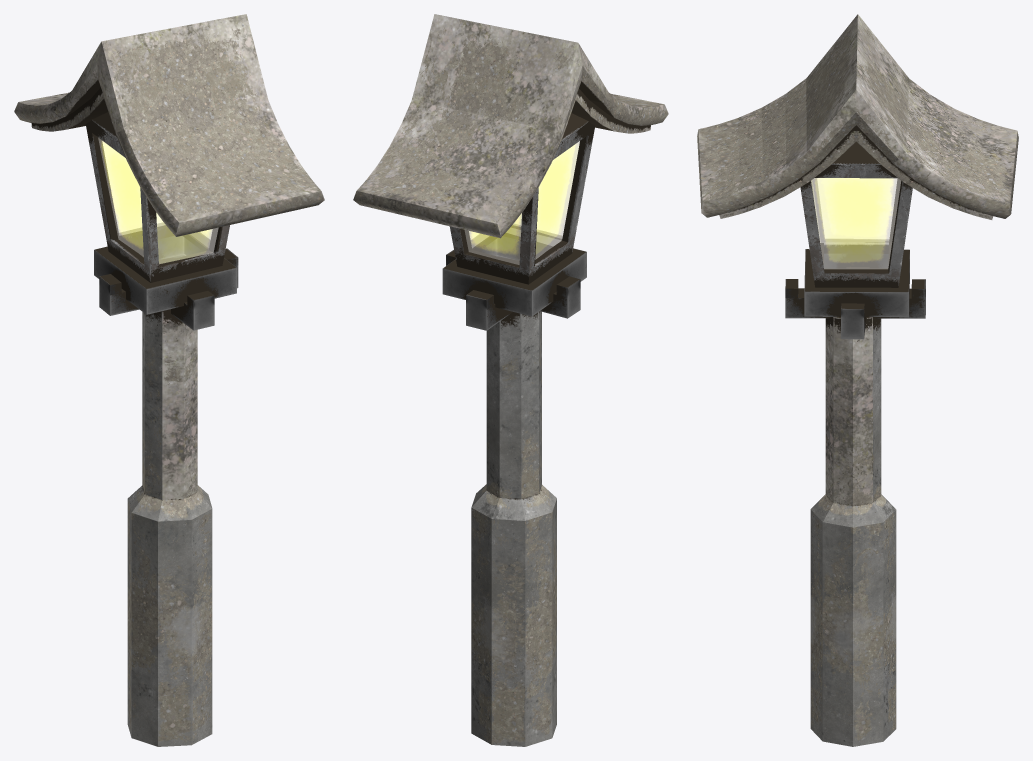
Rendered from toroStone.glb.
The picture shows the model from 3 angles, left to right: view 1: azimuth 30°, elevation 25°; view 2: azimuth 150°, elevation 25°; view 3: azimuth 270°, elevation 25°; orthographic projection. The views are drawn at different scales.
Parts seen in each view (by area): view 1: Default_1_Mat.1_0, Default_1_Mat_0; view 2: Default_1_Mat.1_0, Default_1_Mat_0; view 3: Default_1_Mat.1_0, Default_1_Mat_0.
Boxes of the visible parts, x1,y1,x2,y2 form: Default_1_Mat.1_0: (14, 14, 324, 746); Default_1_Mat_0: (98, 138, 218, 264); Default_1_Mat.1_0: (353, 14, 668, 746); Default_1_Mat_0: (464, 141, 579, 264); Default_1_Mat.1_0: (697, 14, 1018, 746); Default_1_Mat_0: (811, 178, 900, 269).
Bounding box in the file's own units: 0.1144 × 0.4967 × 0.2119.
Materials: 2 (1 with a texture image).
